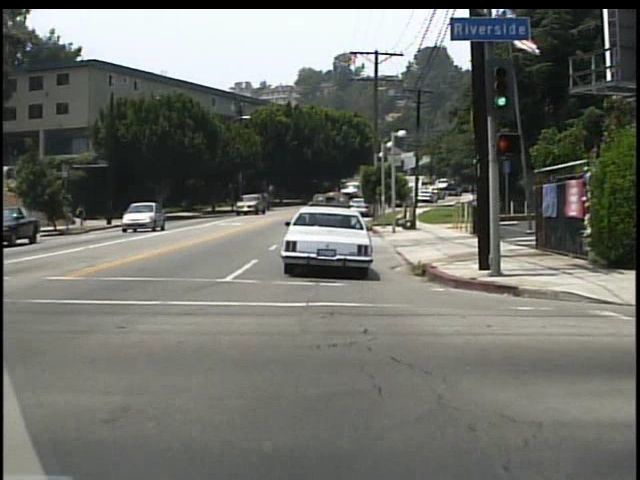person: (76, 203, 90, 228)
